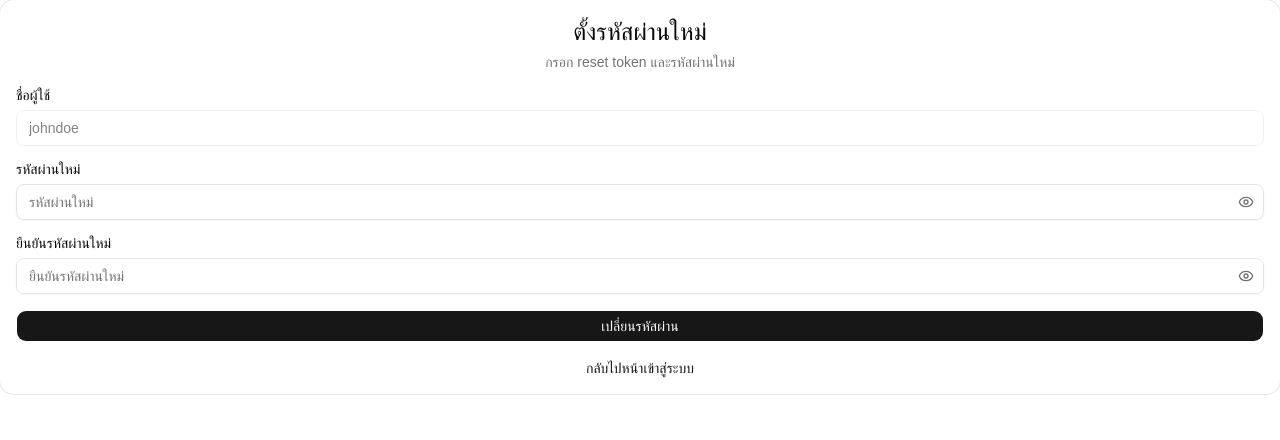
Test: ResetPasswordPage › shows error when passwords do not match
In the password field labelled "รหัสผ่านใหม่": [640, 202] box [16, 184, 1264, 220], type "password1"
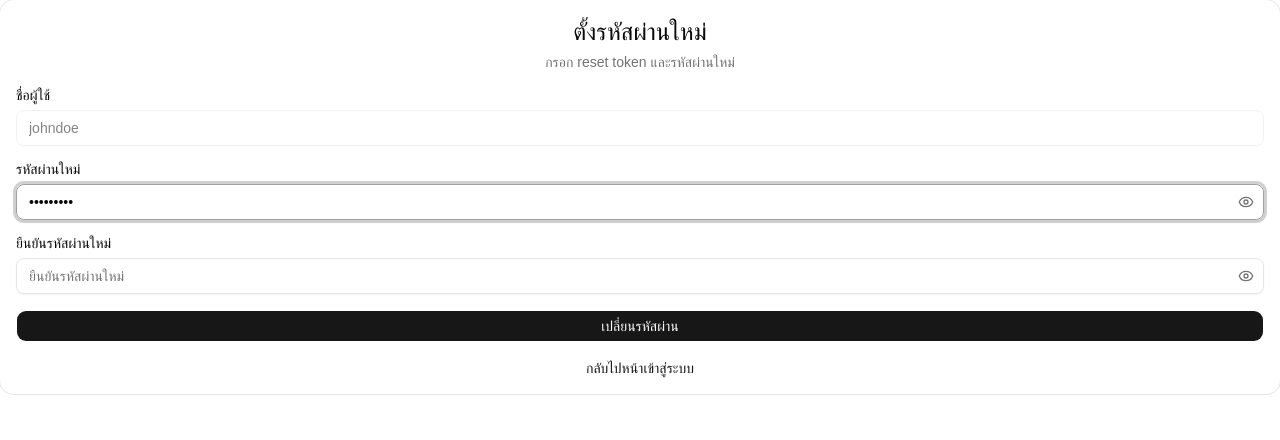
In the password field labelled "ยืนยันรหัสผ่านใหม่": [640, 276] box [16, 258, 1264, 294], type "password2"
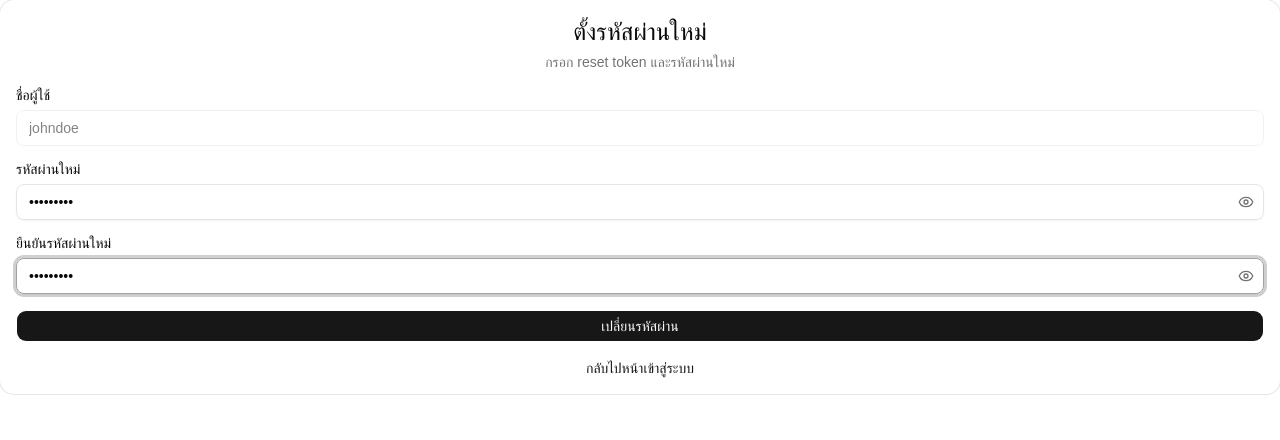
Click the button "เปลี่ยนรหัสผ่าน": [640, 326] box [16, 310, 1264, 342]
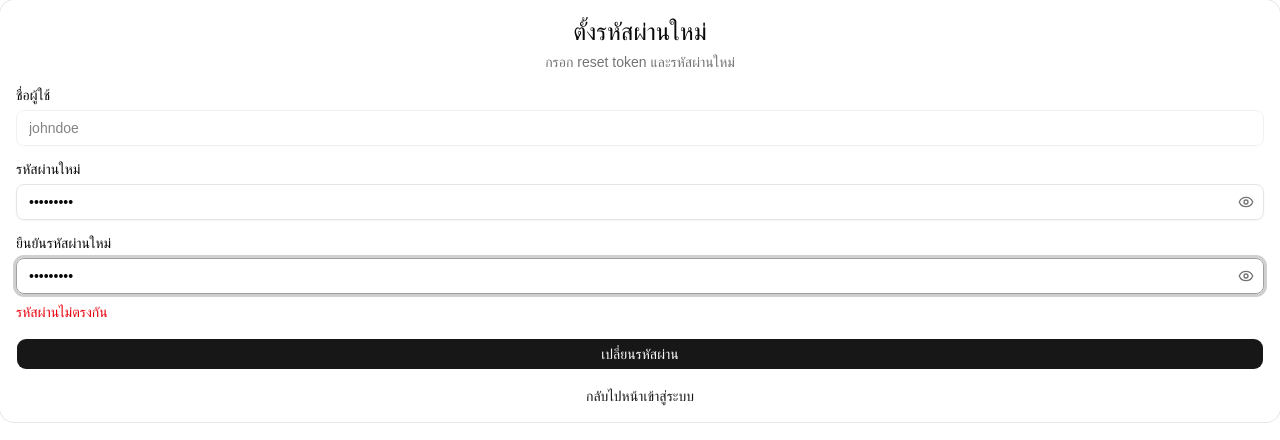
Check: the text "รหัสผ่านไม่ตรงกัน" is shown, box [16, 304, 108, 320]
